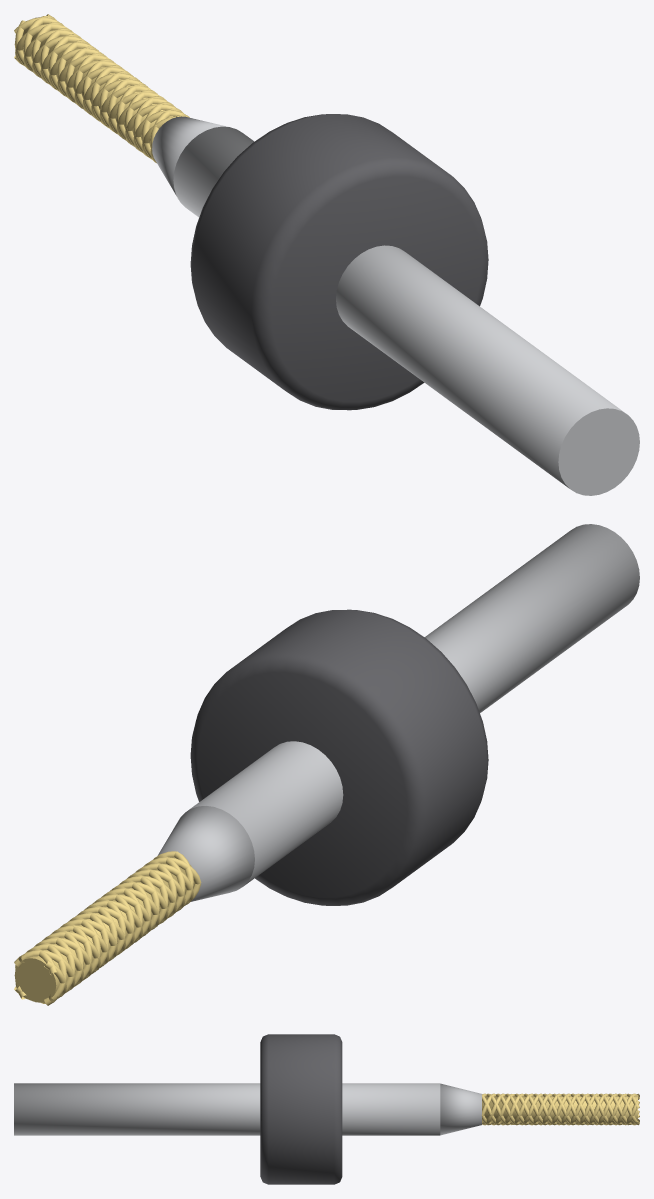
File: corn18_1p9.glb
3 renders of one model, top to bottom at view 1: azimuth 30°, elevation 25°; view 2: azimuth 150°, elevation 25°; view 3: azimuth 270°, elevation 25°, orthographic. The views are drawn at different scales.
Visible parts, largest first — view 1: Cylinder.002, Cylinder.001, Cone, flute.005, flute.002, flute.004, flute.003, flute.007, flute, flute.001, flute.006, Cylinder; view 2: Cylinder.002, Cylinder.001, Cone, Cylinder, flute.005, flute.004, flute.003, flute.002, flute.001, flute.006, flute, flute.007; view 3: Cylinder.001, Cylinder.002, Cone, Cylinder, flute, flute.003, flute.001, flute.002, flute.006, flute.004, flute.005, flute.007.
Part boxes in pixels (x1,y1,x2,y2): Cylinder.002: [190, 114, 488, 410]; Cylinder.001: [173, 126, 639, 495]; Cone: [152, 116, 228, 195]; flute.005: [15, 20, 181, 148]; flute.002: [14, 17, 175, 155]; flute.004: [15, 23, 174, 162]; flute.003: [23, 15, 189, 152]; flute.007: [14, 28, 173, 163]; flute: [32, 14, 189, 149]; flute.001: [32, 21, 165, 159]; flute.006: [23, 29, 182, 144]; Cylinder: [14, 17, 173, 147]; Cylinder.002: [190, 609, 488, 905]; Cylinder.001: [188, 524, 639, 886]; Cone: [157, 806, 254, 901]; Cylinder: [14, 857, 194, 1002]; flute.005: [42, 857, 201, 996]; flute.004: [35, 868, 200, 1005]; flute.003: [14, 851, 176, 990]; flute.002: [27, 851, 193, 986]; flute.001: [15, 869, 185, 999]; flute.006: [14, 861, 176, 999]; flute: [15, 855, 185, 992]; flute.007: [34, 863, 193, 1003]; Cylinder.001: [14, 1083, 440, 1135]; Cylinder.002: [260, 1034, 342, 1184]; Cone: [440, 1083, 481, 1135]; Cylinder: [482, 1096, 637, 1122]; flute: [481, 1093, 639, 1125]; flute.003: [481, 1093, 639, 1125]; flute.001: [482, 1093, 639, 1125]; flute.002: [482, 1093, 639, 1125]; flute.006: [482, 1093, 639, 1125]; flute.004: [491, 1093, 639, 1125]; flute.005: [486, 1093, 639, 1125]; flute.007: [496, 1093, 639, 1125].
Bounding box in the file's own units: 0.00917 × 0.00917 × 0.0381.
